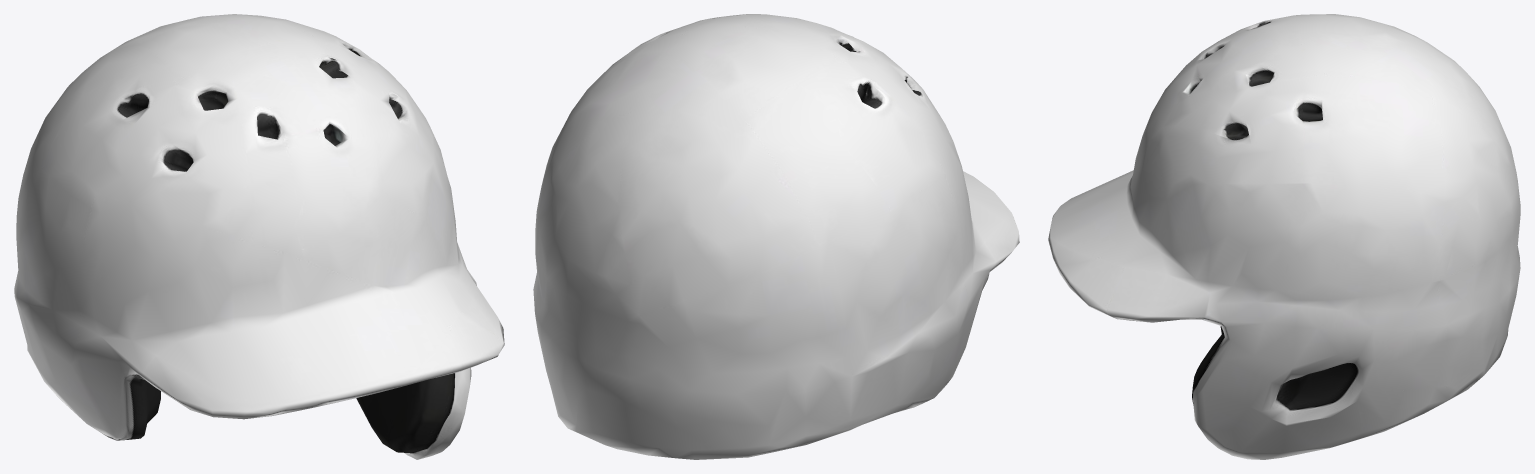
File: helmet.glb
3 views of the same model, side by side, from view 1: azimuth 30°, elevation 25°; view 2: azimuth 150°, elevation 25°; view 3: azimuth 270°, elevation 25° (orthographic). The views are drawn at different scales.
Visible parts, largest first — view 1: helmet; view 2: helmet; view 3: helmet.
Boxes of the visible parts, left/top/right/bottom form: helmet: left=14, top=14, right=504, bottom=459; helmet: left=533, top=14, right=1019, bottom=459; helmet: left=1048, top=14, right=1520, bottom=459.
Bounding box in the file's own units: 0.8208 × 0.8551 × 0.9991.
Materials: 1 (1 with a texture image).
